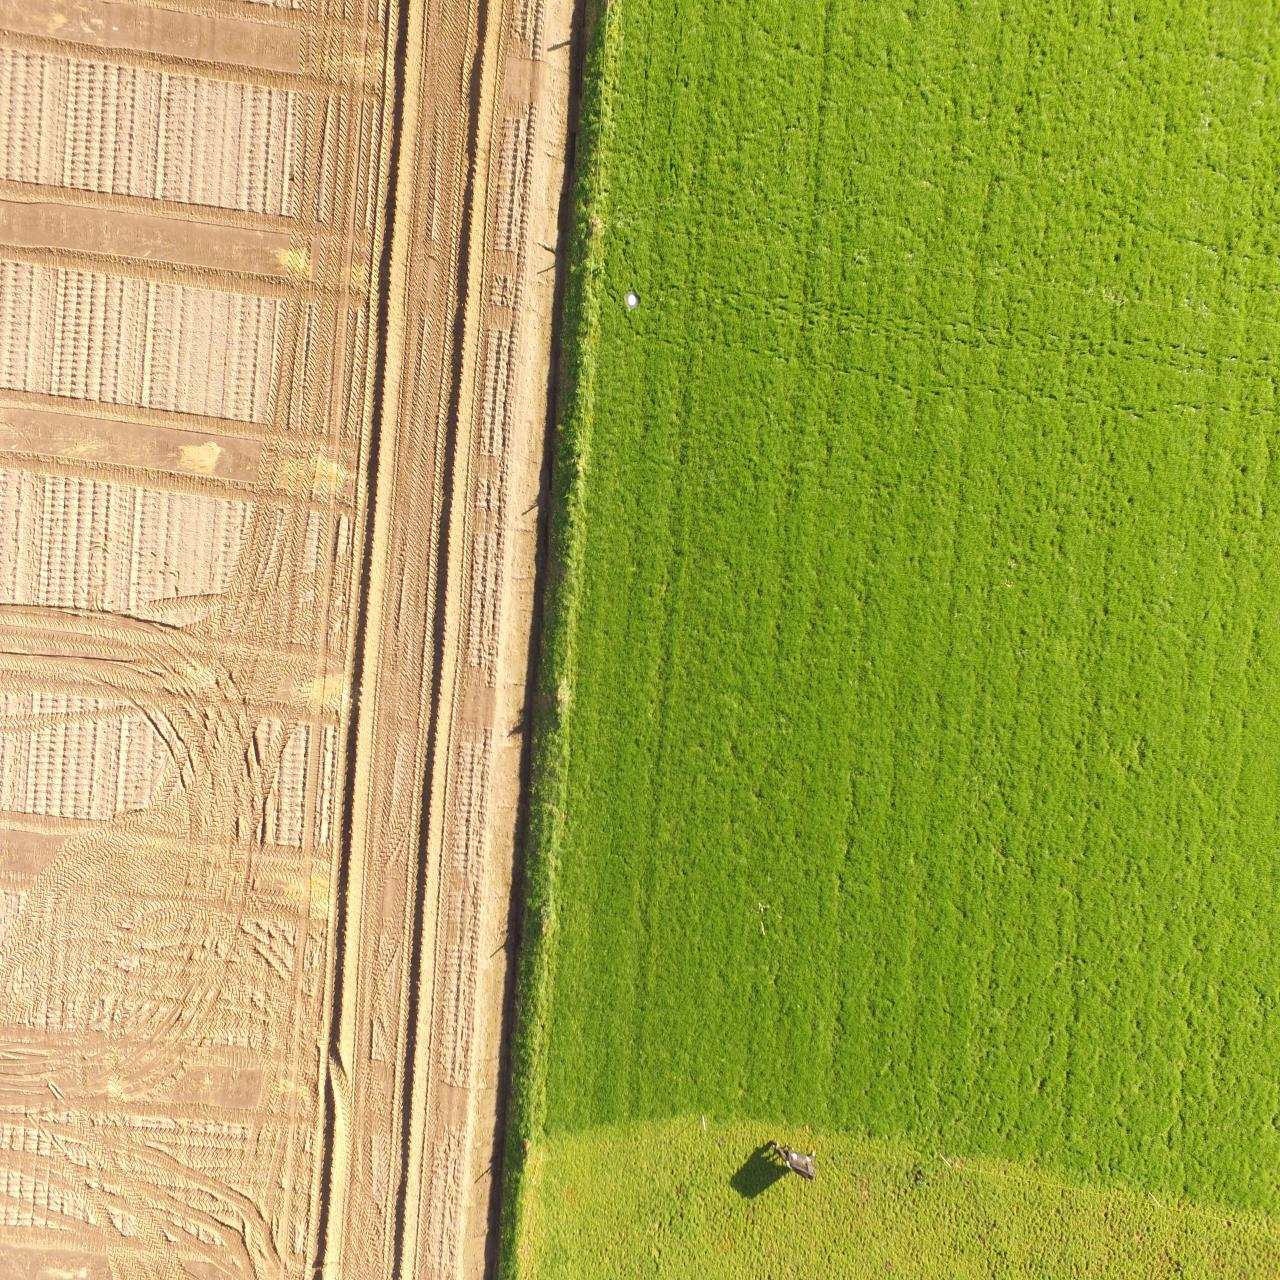cow: (774, 1137, 816, 1178)
